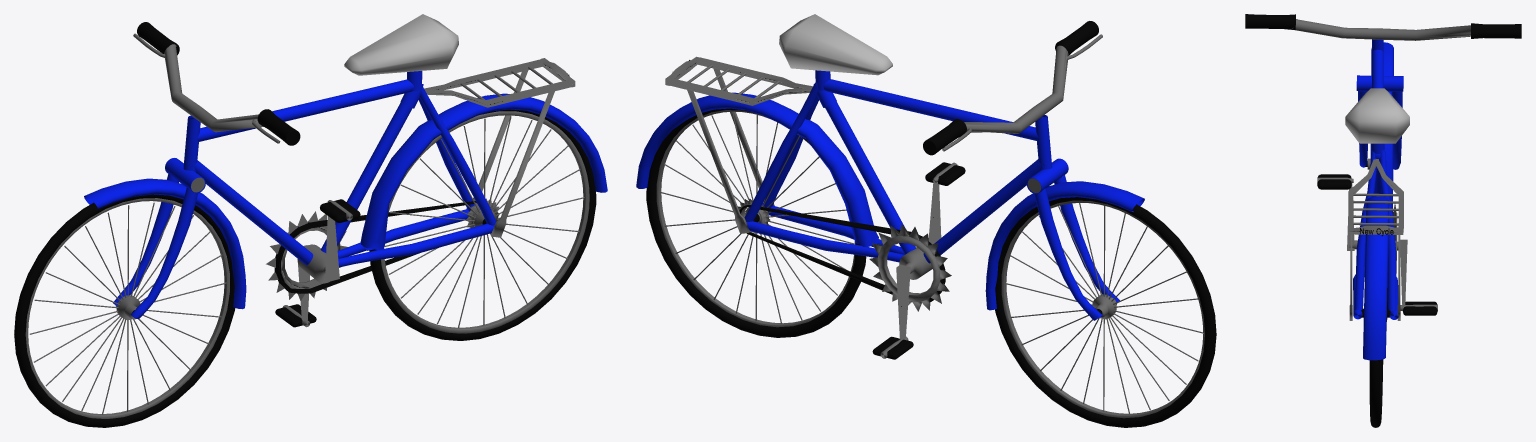
The model's file is Bicycle.obj.
3 renders of one model, left to right at view 1: azimuth 30°, elevation 25°; view 2: azimuth 150°, elevation 25°; view 3: azimuth 270°, elevation 25°, orthographic. The views are drawn at different scales.
Parts seen in each view (by area): view 1: Cylinder02, ChamferBox; view 2: Cylinder02, ChamferBox; view 3: Cylinder02, ChamferBox.
Boxes of the visible parts, x1=… form: Cylinder02: x1=14, y1=22, x2=607, y2=427; ChamferBox: x1=344, y1=14, x2=458, y2=75; Cylinder02: x1=636, y1=21, x2=1216, y2=427; ChamferBox: x1=779, y1=14, x2=892, y2=75; Cylinder02: x1=1245, y1=14, x2=1521, y2=427; ChamferBox: x1=1345, y1=88, x2=1409, y2=143.
Size of the model in its own units: 162 by 87.51 by 75.01.
